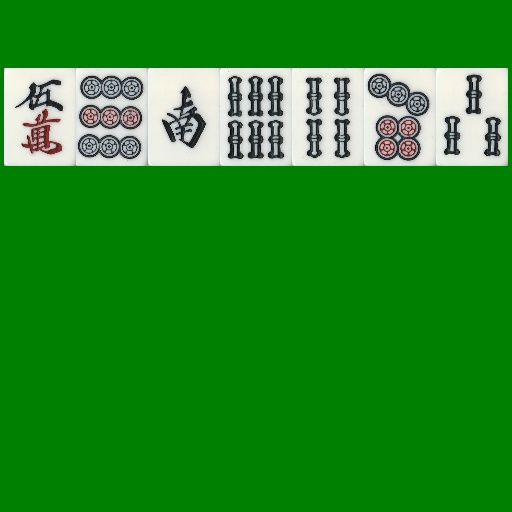3s: (436, 68, 508, 166)
4s: (292, 68, 364, 166)
5m: (4, 68, 76, 166)
6s: (220, 68, 292, 166)
7p: (364, 68, 436, 166)
9p: (76, 68, 148, 166)
south: (148, 68, 220, 166)
